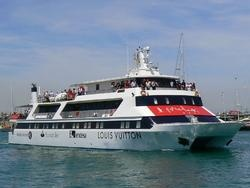yacht: (7, 32, 232, 147)
